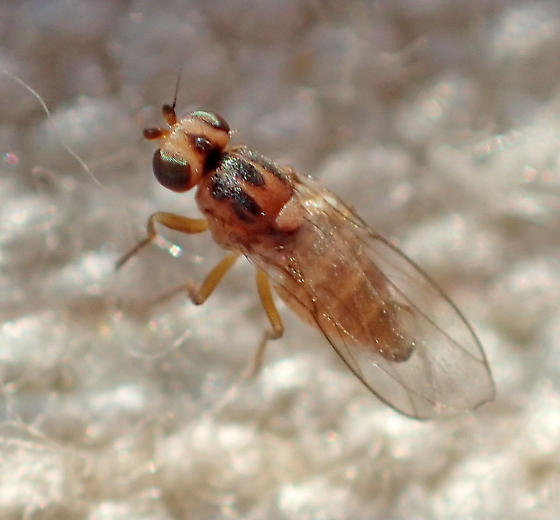Chloropidae: (132, 72, 501, 423)
